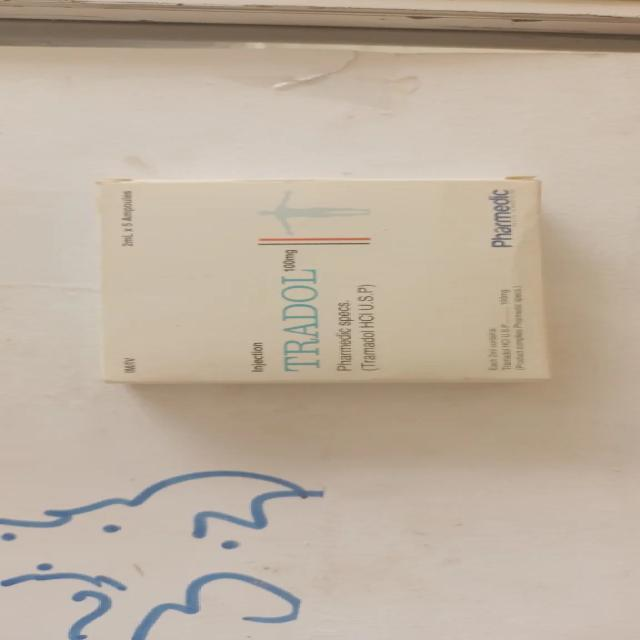drug-name: (272, 267, 328, 373)
